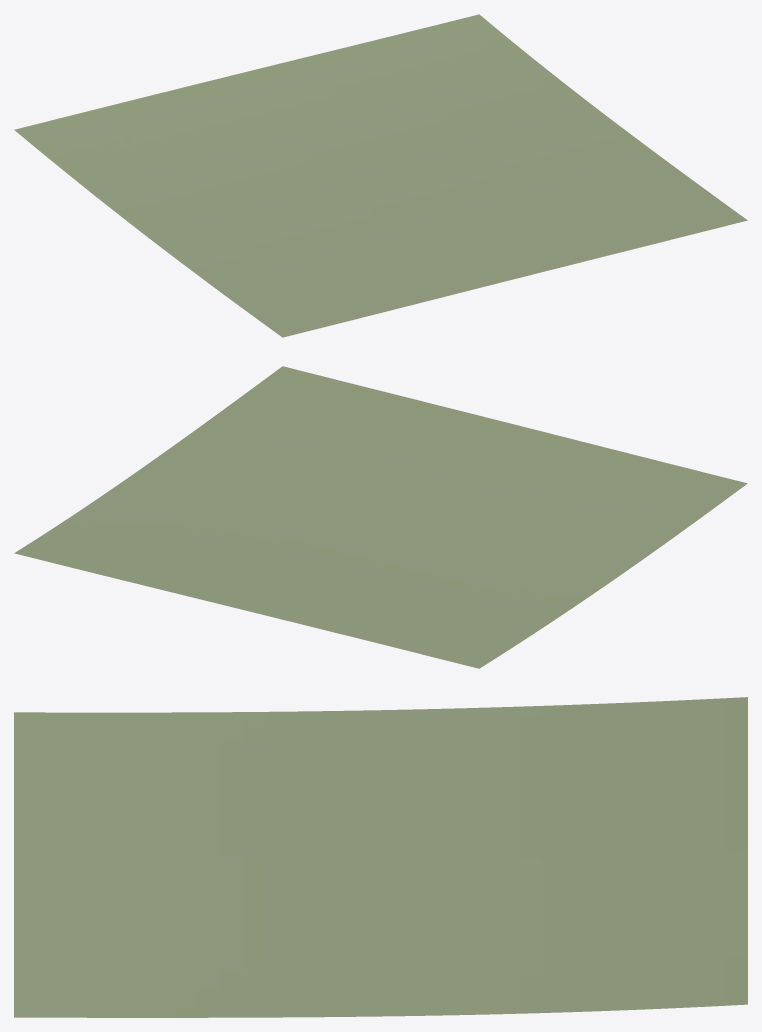
Rendered from desert-22-24.glb.
The picture shows the model from 3 angles, top to bottom: view 1: azimuth 30°, elevation 25°; view 2: azimuth 150°, elevation 25°; view 3: azimuth 270°, elevation 25°; orthographic projection. The views are drawn at different scales.
Visible parts, largest first — view 1: desert-22-24; view 2: desert-22-24; view 3: desert-22-24.
Boxes of the visible parts, x1,y1,x2,y2 form: desert-22-24: (14,14,747,337); desert-22-24: (14,366,747,668); desert-22-24: (14,697,747,1017).
Bounding box in the file's own units: 512 × 13.97 × 512.
